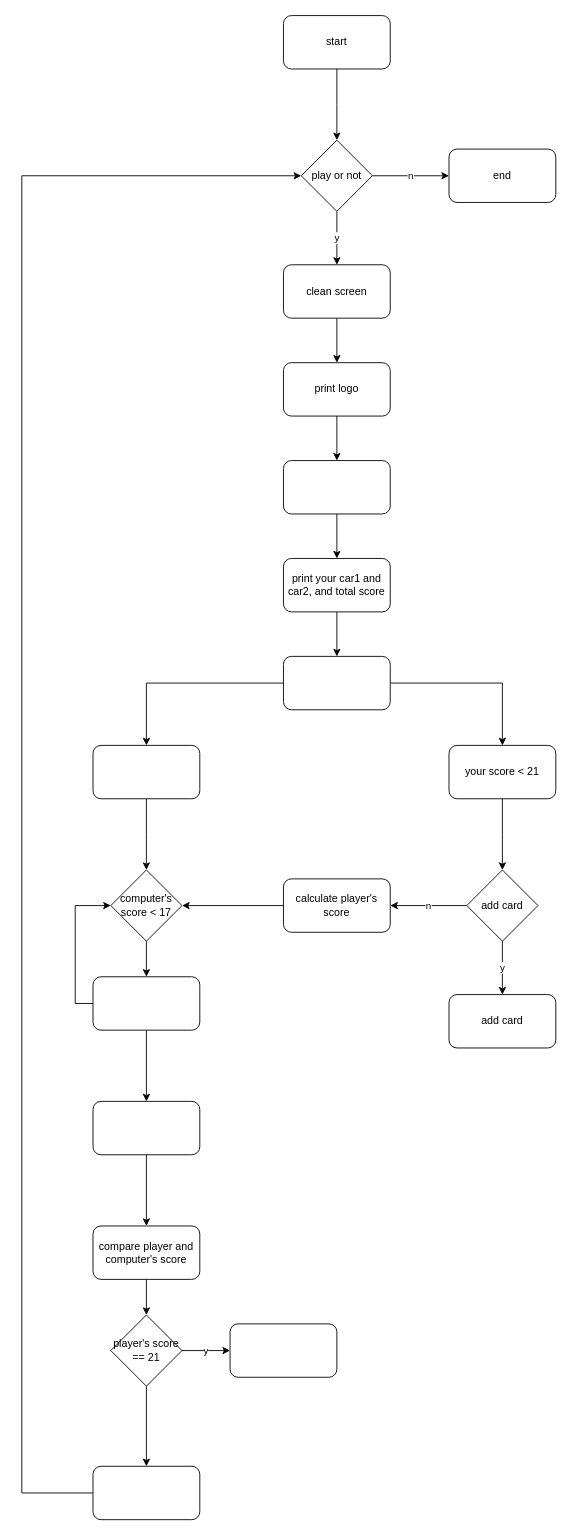
Image size: 571x1535. Some labels were removed from this diagram. The shapes that lost their labels are listed below. From the top down, each one's centre as x and y in pixels, then its label:
(x=336, y=487): add 2 cards both to player and computer
(x=336, y=682): print computer's card1,hind card2
(x=146, y=771): your score == 21
(x=146, y=1003): add a card
(x=146, y=1127): calculate computer's score
(x=283, y=1350): print black jack
(x=146, y=1492): print result
